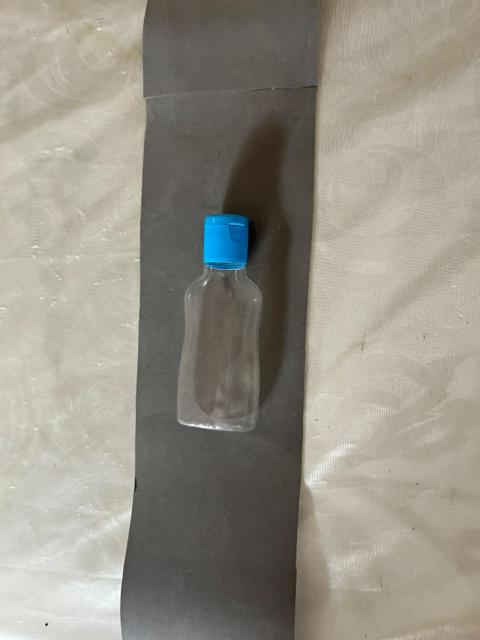PET: (175, 181, 273, 458)
